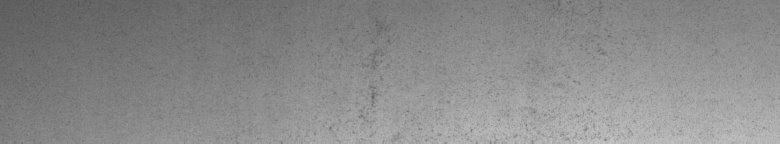ib: (466, 44, 619, 135)
